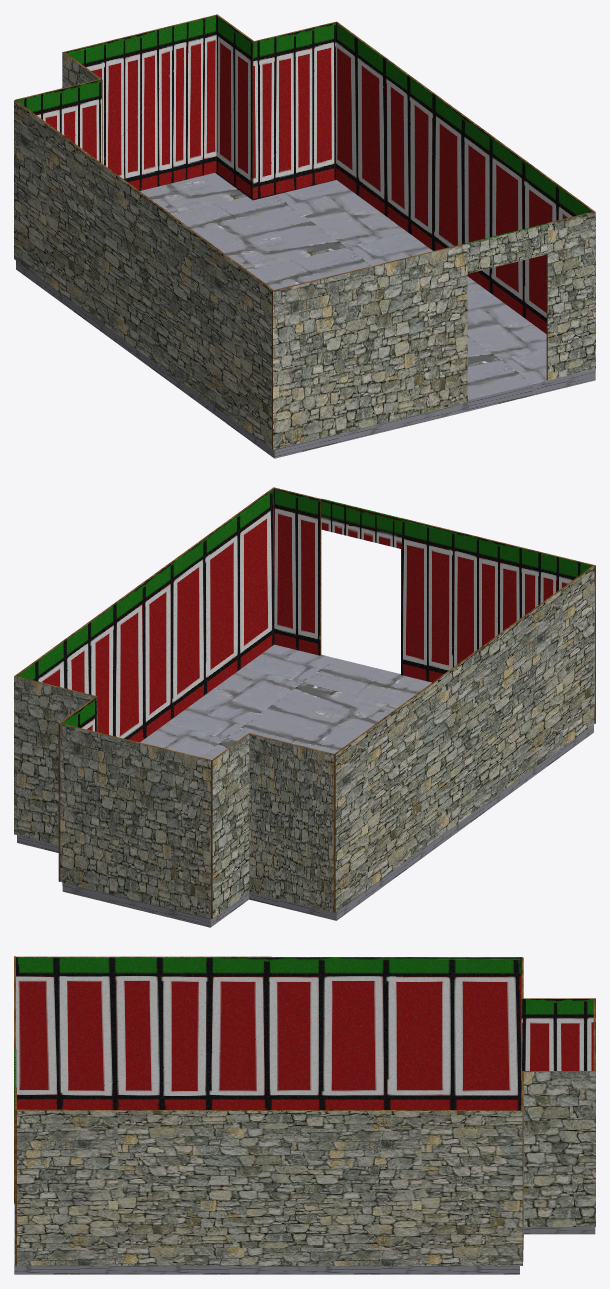
Rendered from MithraeumTryBoxes.FBX.
The picture shows the model from 3 angles, top to bottom: view 1: azimuth 30°, elevation 25°; view 2: azimuth 150°, elevation 25°; view 3: azimuth 270°, elevation 25°; orthographic projection. The views are drawn at different scales.
Visible parts, largest first — view 1: Mithraeum Wall 002, Mithraeum Wall 003, Mithraeum Wall 1, FloorMithraeum, Mithraeum Wall 006, Mithraeum Wall 005, TableTop, Mithraeum Wall 007, Mithraeum Wall 004, TableTop001, Mithraeum Wall 008; view 2: Mithraeum Wall 002, Mithraeum Wall 003, Mithraeum Wall 006, FloorMithraeum, Mithraeum Wall 1, Mithraeum Wall 004, Mithraeum Wall 005, TableTop, Mithraeum Wall 008, TableTop001, Mithraeum Wall 007; view 3: Mithraeum Wall 003, Mithraeum Wall 002, Mithraeum Wall 007, FloorMithraeum, Mithraeum Wall 008.
Part boxes in pixels (x1=…): Mithraeum Wall 002: x1=14, y1=100, x2=273, y2=448; Mithraeum Wall 003: x1=335, y1=21, x2=594, y2=333; Mithraeum Wall 1: x1=272, y1=243, x2=467, y2=449; FloorMithraeum: x1=16, y1=173, x2=595, y2=458; Mithraeum Wall 006: x1=63, y1=15, x2=216, y2=190; Mithraeum Wall 005: x1=252, y1=22, x2=335, y2=200; TableTop: x1=546, y1=211, x2=595, y2=380; Mithraeum Wall 007: x1=216, y1=14, x2=253, y2=199; Mithraeum Wall 004: x1=15, y1=79, x2=101, y2=162; TableTop001: x1=467, y1=223, x2=547, y2=273; Mithraeum Wall 008: x1=62, y1=52, x2=102, y2=163; Mithraeum Wall 002: x1=334, y1=565, x2=594, y2=912; Mithraeum Wall 003: x1=15, y1=488, x2=274, y2=742; Mithraeum Wall 006: x1=60, y1=723, x2=213, y2=918; FloorMithraeum: x1=17, y1=644, x2=593, y2=927; Mithraeum Wall 1: x1=401, y1=518, x2=595, y2=723; Mithraeum Wall 004: x1=249, y1=733, x2=334, y2=912; Mithraeum Wall 005: x1=14, y1=676, x2=97, y2=845; TableTop: x1=273, y1=487, x2=321, y2=655; Mithraeum Wall 008: x1=211, y1=733, x2=249, y2=918; TableTop001: x1=321, y1=498, x2=401, y2=549; Mithraeum Wall 007: x1=58, y1=696, x2=96, y2=881; Mithraeum Wall 003: x1=17, y1=1109, x2=522, y2=1265; Mithraeum Wall 002: x1=16, y1=956, x2=522, y2=1110; Mithraeum Wall 007: x1=524, y1=1071, x2=595, y2=1226; FloorMithraeum: x1=14, y1=1202, x2=595, y2=1274; Mithraeum Wall 008: x1=521, y1=998, x2=595, y2=1079.
Bounding box in the file's own units: 14.78 × 7.32 × 23.51.
Materials: 4 (4 with a texture image).
